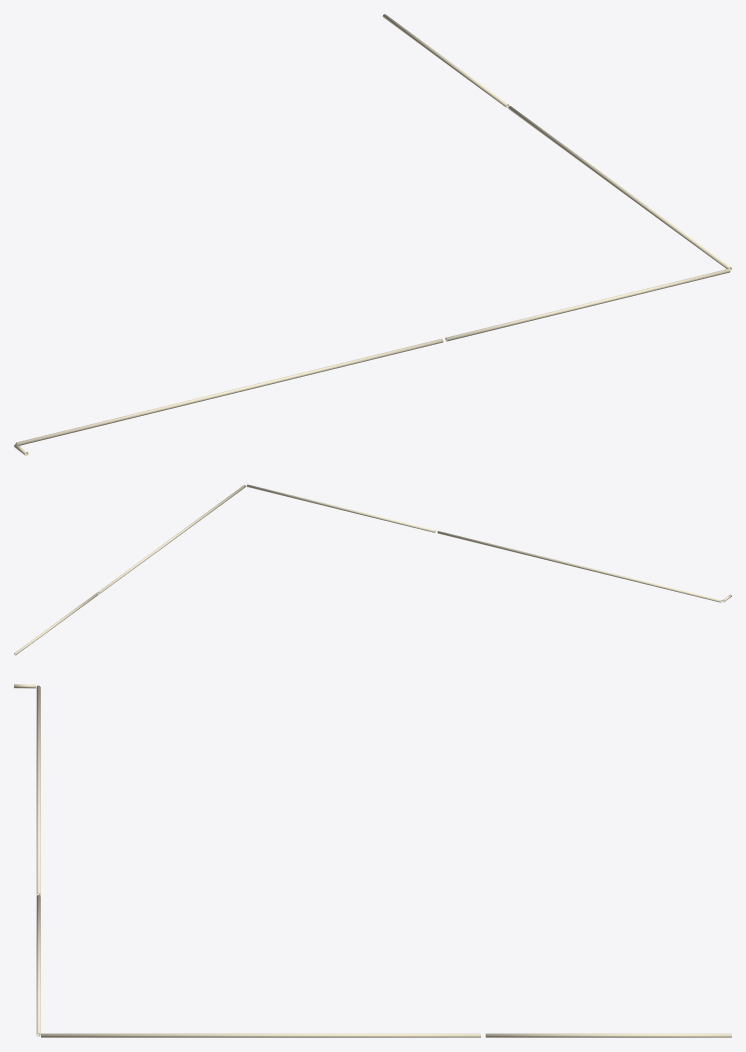
The model's file is pipes_supply__plumbing__54016e8a.glb.
The picture shows the model from 3 angles, top to bottom: view 1: azimuth 30°, elevation 25°; view 2: azimuth 150°, elevation 25°; view 3: azimuth 270°, elevation 25°; orthographic projection. The views are drawn at different scales.
Parts seen in each view (by area): view 1: pipe_supply_cold_trunk_flo_s.901; view 2: pipe_supply_cold_trunk_flo_s.901; view 3: pipe_supply_cold_trunk_flo_s.901.
Part boxes in pixels (x1,y1,x2,y2): pipe_supply_cold_trunk_flo_s.901: (14, 14, 731, 455); pipe_supply_cold_trunk_flo_s.901: (14, 484, 731, 655); pipe_supply_cold_trunk_flo_s.901: (14, 684, 731, 1037).
Bounding box in the file's own units: 4.59 × 0.0222 × 3.97.
